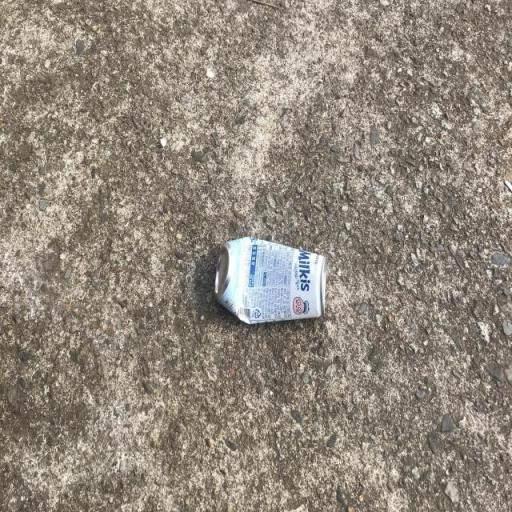metal: (182, 222, 348, 346)
